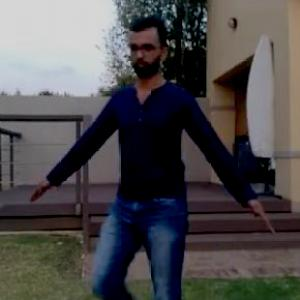land: (32, 23, 271, 299)
